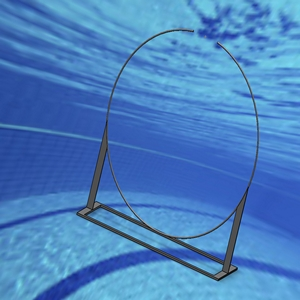circle: (76, 27, 261, 278)
